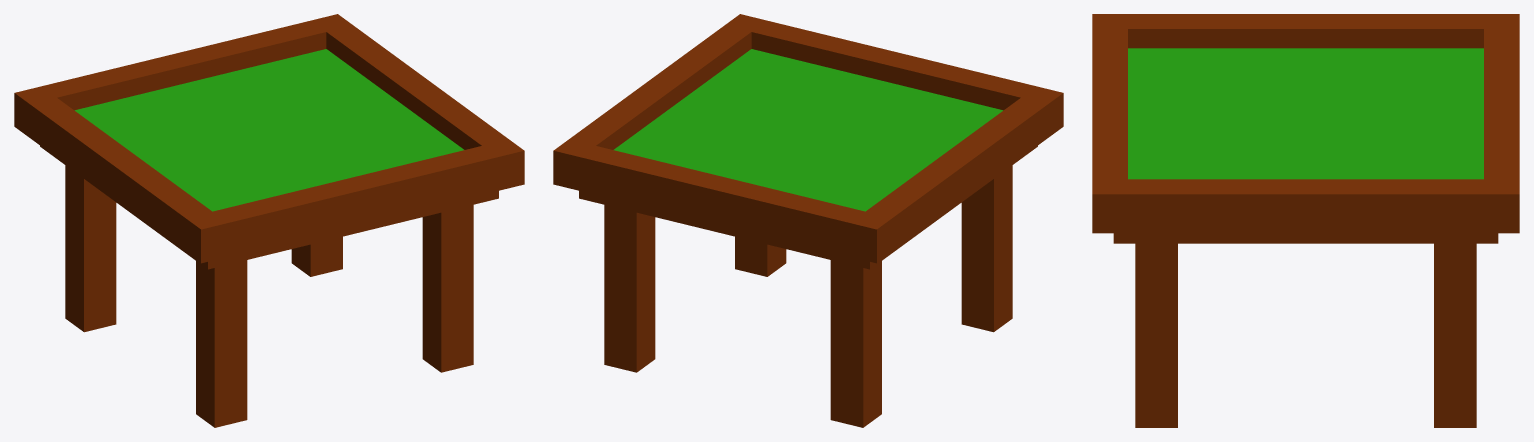
The model's file is Table.obj.
3 views of the same model, side by side, from view 1: azimuth 30°, elevation 25°; view 2: azimuth 150°, elevation 25°; view 3: azimuth 270°, elevation 25° (orthographic). The views are drawn at different scales.
Parts seen in each view (by area): view 1: cuboid; view 2: cuboid; view 3: cuboid.
Boxes of the visible parts, left/top/right/bottom form: cuboid: left=14, top=14, right=524, bottom=427; cuboid: left=553, top=14, right=1063, bottom=427; cuboid: left=1092, top=14, right=1519, bottom=427.
Size of the model in its own units: 1.25 by 0.8125 by 1.25.
1 material, 1 textured.
